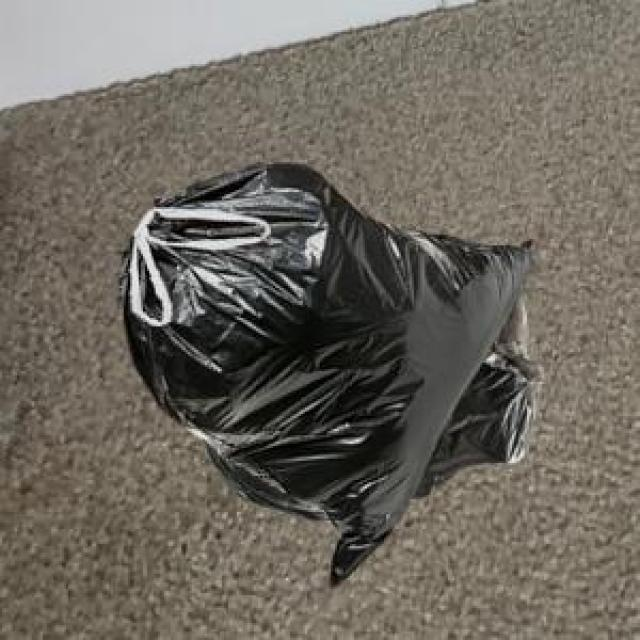Vinyl: (121, 164, 534, 581)
